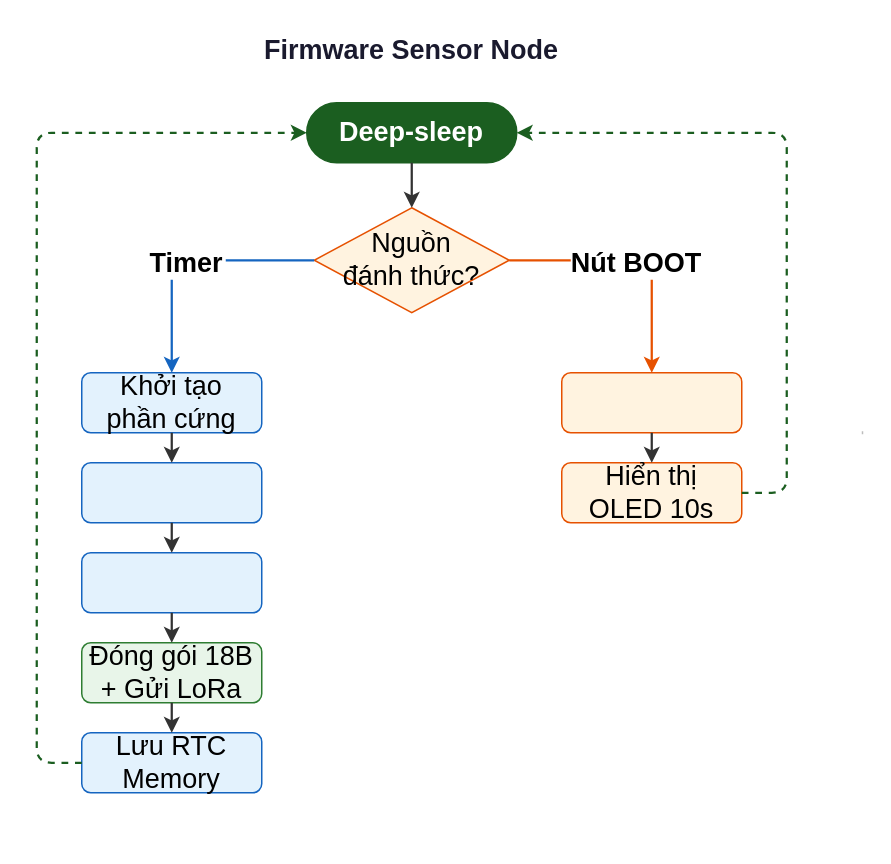
Image size: 891x864. Some labels were removed from this diagram. The box of each missing label's shape, as (x1, y1, x2, y2) in pixels:
Đo pin (ADC): (80, 551, 262, 613)
Đọc cảm biến + Warm-up: (80, 461, 262, 523)
Đọc dữ liệu từ RTC: (560, 371, 742, 433)
